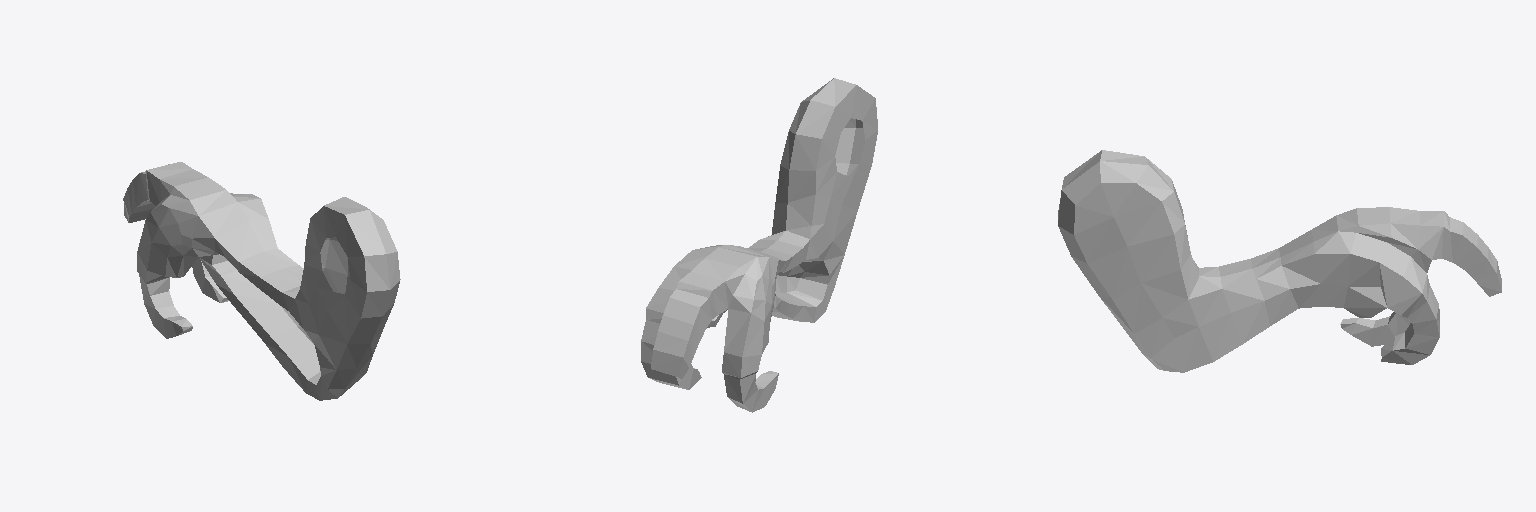
Rendered from BrazoDerecho.obj.
The picture shows the model from 3 angles: view 1: azimuth 30°, elevation 25°; view 2: azimuth 150°, elevation 25°; view 3: azimuth 270°, elevation 25°; orthographic projection.
Visible parts, largest first — view 1: polySurface13 polySurface12 polySurface10 polySurface8 polySurfa; view 2: polySurface13 polySurface12 polySurface10 polySurface8 polySurfa; view 3: polySurface13 polySurface12 polySurface10 polySurface8 polySurfa.
Boxes of the visible parts, box(x1,y1,x2,y2) form: polySurface13 polySurface12 polySurface10 polySurface8 polySurfa: box(123, 162, 400, 400); polySurface13 polySurface12 polySurface10 polySurface8 polySurfa: box(641, 78, 877, 412); polySurface13 polySurface12 polySurface10 polySurface8 polySurfa: box(1058, 150, 1501, 372).
Bounding box in the file's own units: 0.6408 × 1.27 × 2.4.